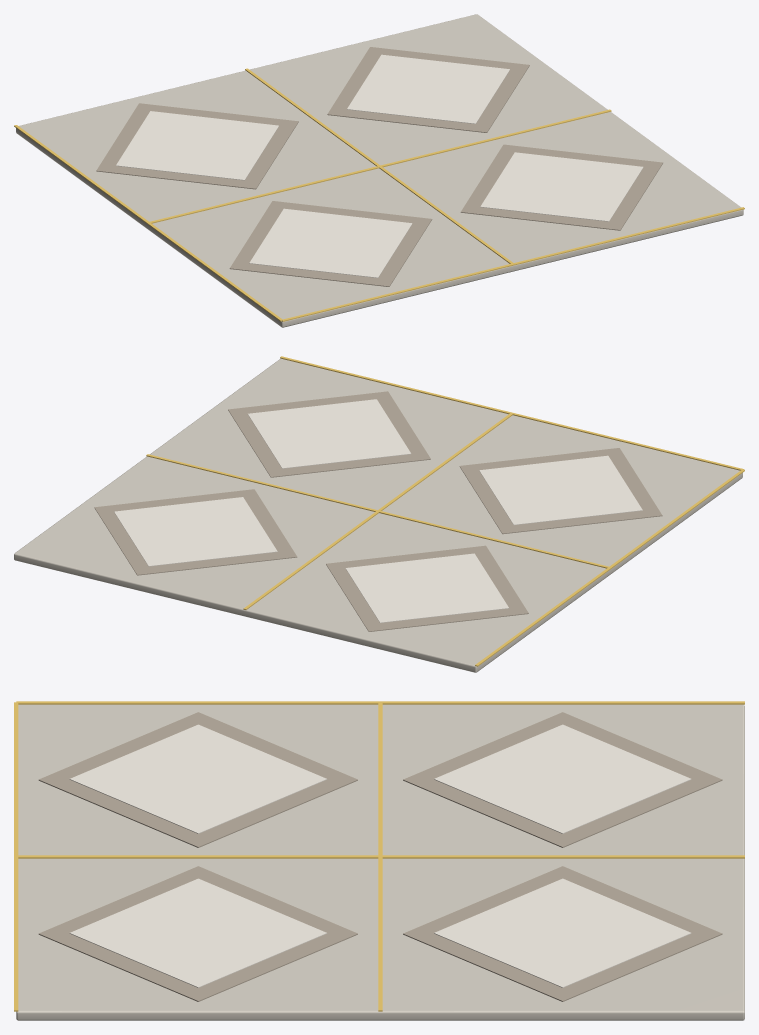
File: floor_pearl_tile.glb
3 renders of one model, top to bottom at view 1: azimuth 30°, elevation 25°; view 2: azimuth 150°, elevation 25°; view 3: azimuth 270°, elevation 25°, orthographic. The views are drawn at different scales.
Visible parts, largest first — view 1: floor_pearl_tile; view 2: floor_pearl_tile; view 3: floor_pearl_tile.
Part boxes in pixels (left/top/right/bottom): floor_pearl_tile: left=14, top=14, right=744, bottom=327; floor_pearl_tile: left=14, top=356, right=744, bottom=672; floor_pearl_tile: left=14, top=701, right=744, bottom=1020.
Bounding box in the file's own units: 2.01 × 0.035 × 2.01.
